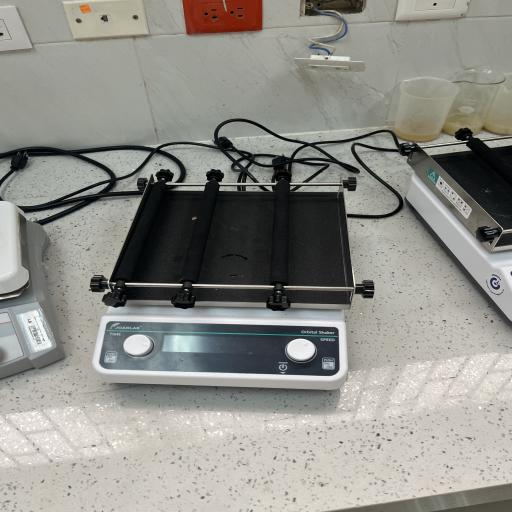Agitador_Orbital_DLAB: (76, 167, 388, 403)
